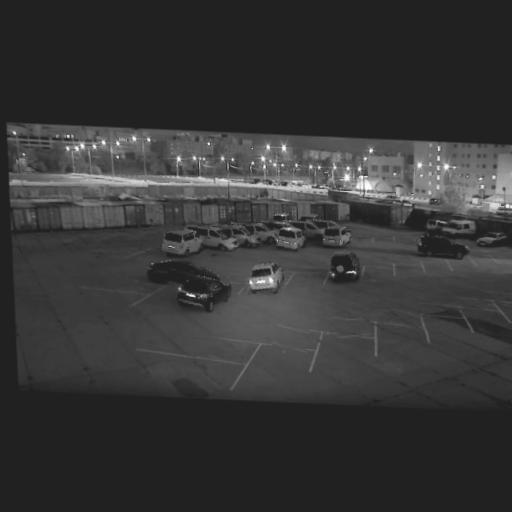busy: (164, 263, 231, 315), (154, 225, 203, 259), (412, 232, 470, 260), (182, 221, 236, 251), (240, 260, 286, 295), (426, 216, 486, 240), (326, 251, 363, 287), (219, 223, 263, 251), (270, 225, 307, 253), (318, 225, 353, 250), (246, 221, 276, 245), (475, 231, 512, 247)
free: (258, 350, 306, 380), (271, 324, 310, 352), (208, 338, 246, 364), (380, 324, 421, 348), (326, 337, 368, 360), (334, 316, 371, 341), (421, 318, 460, 338), (388, 308, 420, 328), (291, 271, 323, 287), (466, 310, 498, 325), (129, 279, 149, 296), (365, 265, 389, 279), (449, 260, 472, 274), (428, 304, 449, 318), (395, 265, 420, 276), (425, 261, 447, 273), (354, 237, 373, 247)
